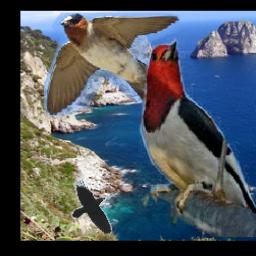Crow: (71, 178, 112, 234)
Swallow: (45, 13, 181, 117)
Woodpecker: (136, 31, 256, 238)
